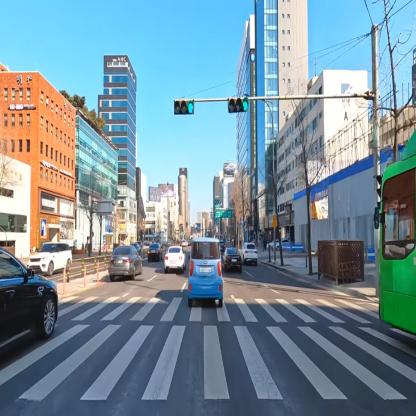Green: (172, 98, 196, 118), (226, 96, 249, 114)
